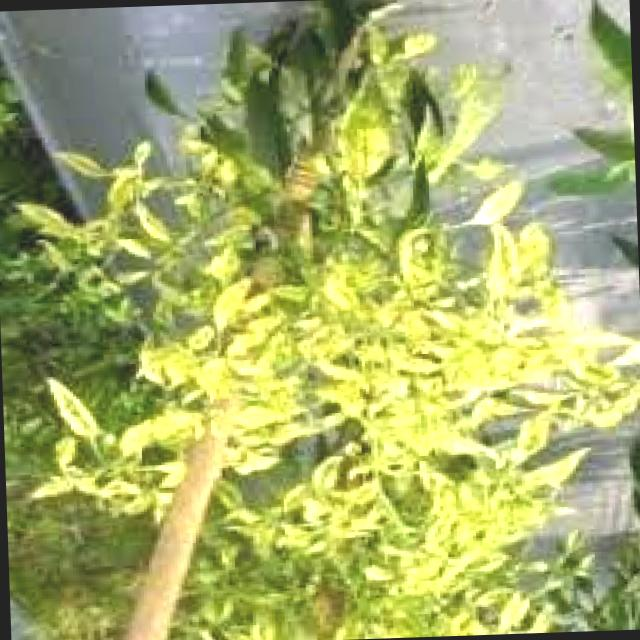yellowish leaf: (4, 27, 640, 624)
